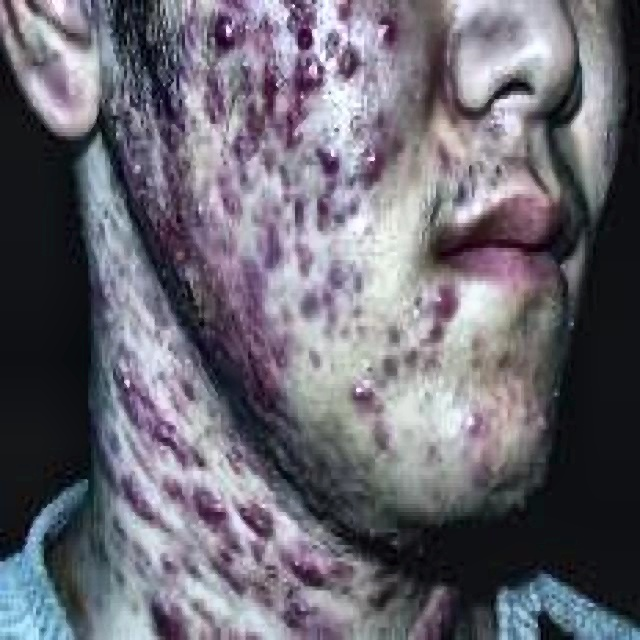nodule: (185, 479, 229, 545), (204, 12, 248, 62), (121, 471, 158, 520), (433, 281, 464, 334), (88, 434, 119, 479), (259, 140, 295, 178), (292, 25, 328, 62), (345, 368, 381, 404), (472, 450, 502, 491), (248, 95, 279, 132), (290, 529, 312, 578), (154, 413, 180, 454), (254, 206, 278, 248), (152, 599, 179, 636), (254, 355, 278, 396), (235, 492, 262, 528), (527, 392, 552, 430), (320, 260, 342, 302), (290, 198, 314, 236), (320, 190, 339, 235), (375, 8, 395, 50), (433, 140, 455, 178), (480, 392, 502, 430), (304, 58, 326, 95), (127, 153, 149, 190), (168, 190, 190, 227), (254, 314, 278, 347), (358, 144, 381, 178), (135, 198, 155, 236), (94, 268, 113, 306), (381, 338, 400, 376), (171, 364, 193, 396), (188, 190, 212, 219), (339, 58, 362, 87), (320, 144, 339, 178), (259, 558, 279, 590), (287, 103, 309, 132), (202, 95, 224, 124), (118, 372, 140, 401), (295, 289, 312, 326), (204, 264, 229, 289), (226, 297, 246, 326), (367, 425, 386, 454), (411, 318, 433, 343), (290, 586, 306, 620), (218, 178, 237, 206), (300, 240, 314, 276), (237, 264, 257, 289), (463, 400, 480, 426), (160, 124, 182, 144), (215, 70, 232, 95), (179, 268, 193, 298), (168, 235, 185, 256), (264, 66, 278, 91), (234, 124, 246, 153)
